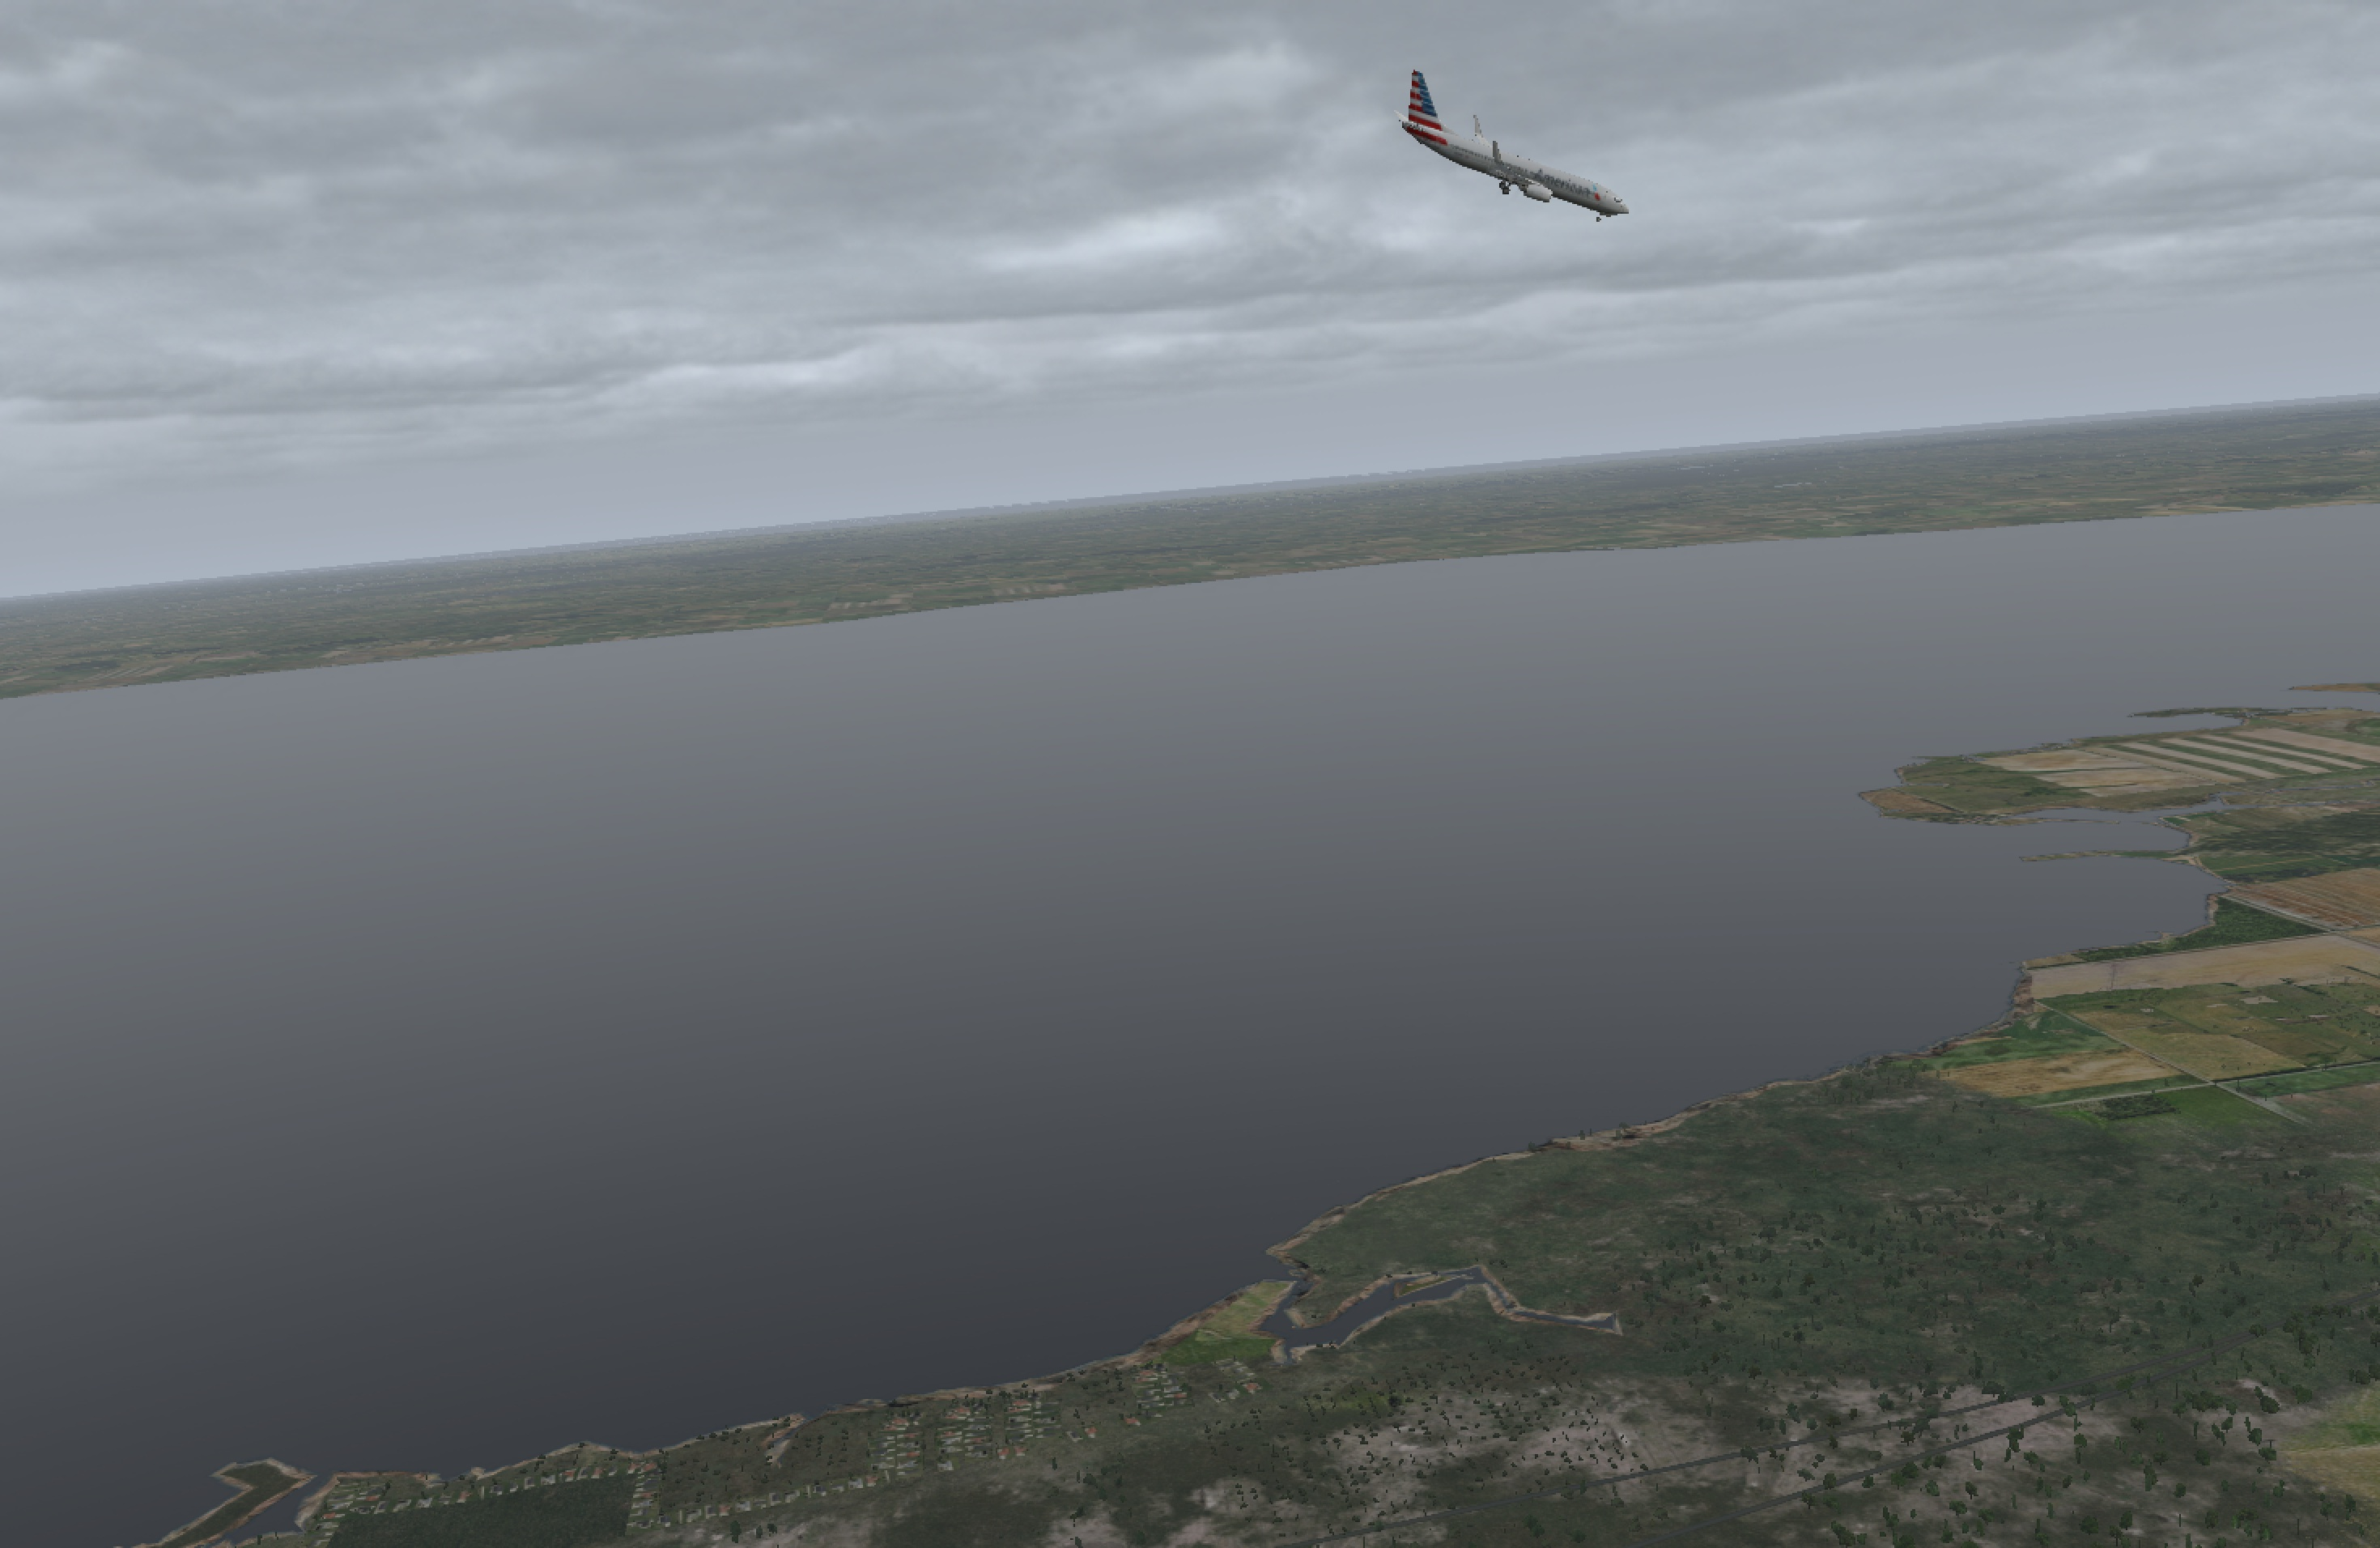aircraft: (1398, 130, 1639, 220)
